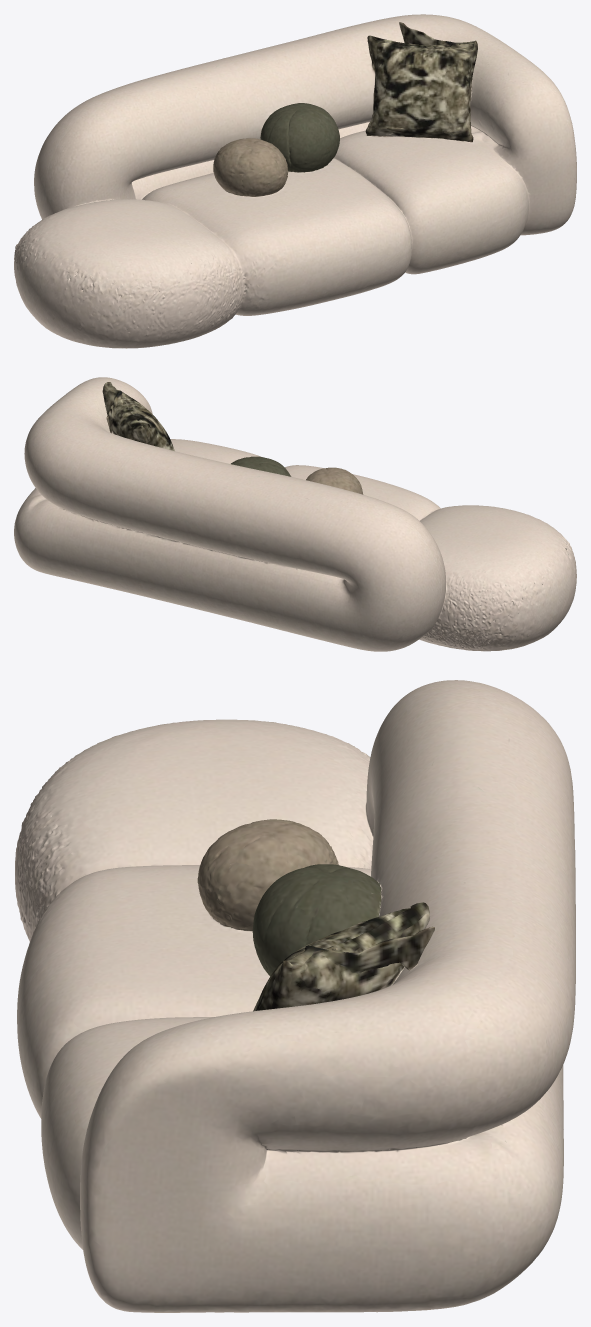
Rendered from main-sofa-organic-cream-boucle.glb.
3 renders of one model, top to bottom at view 1: azimuth 30°, elevation 25°; view 2: azimuth 150°, elevation 25°; view 3: azimuth 270°, elevation 25°, orthographic. The views are drawn at different scales.
Parts seen in each view (by area): view 1: world; view 2: world; view 3: world.
Boxes of the visible parts, x1=… form: world: x1=14, y1=14, x2=576, y2=348; world: x1=14, y1=377, x2=576, y2=651; world: x1=15, y1=680, x2=575, y2=1312.
Size of the model in its own units: 1 by 0.3146 by 0.499.
1 material, 1 textured.
